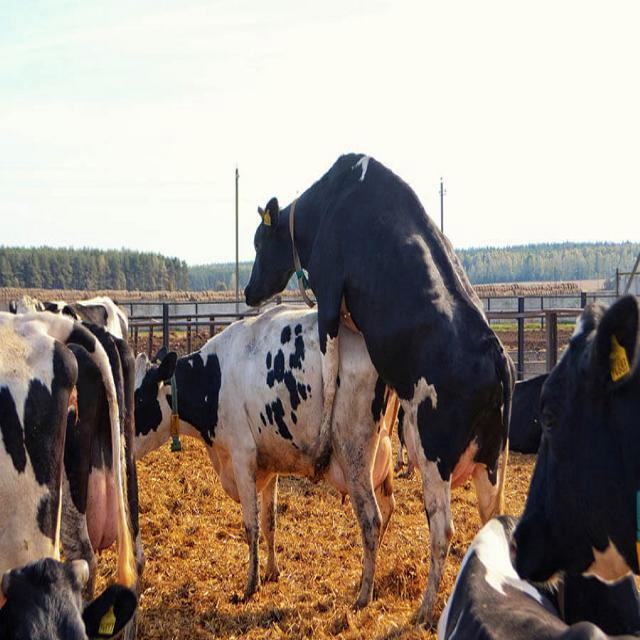cow: (245, 154, 512, 622), (135, 306, 394, 607)
